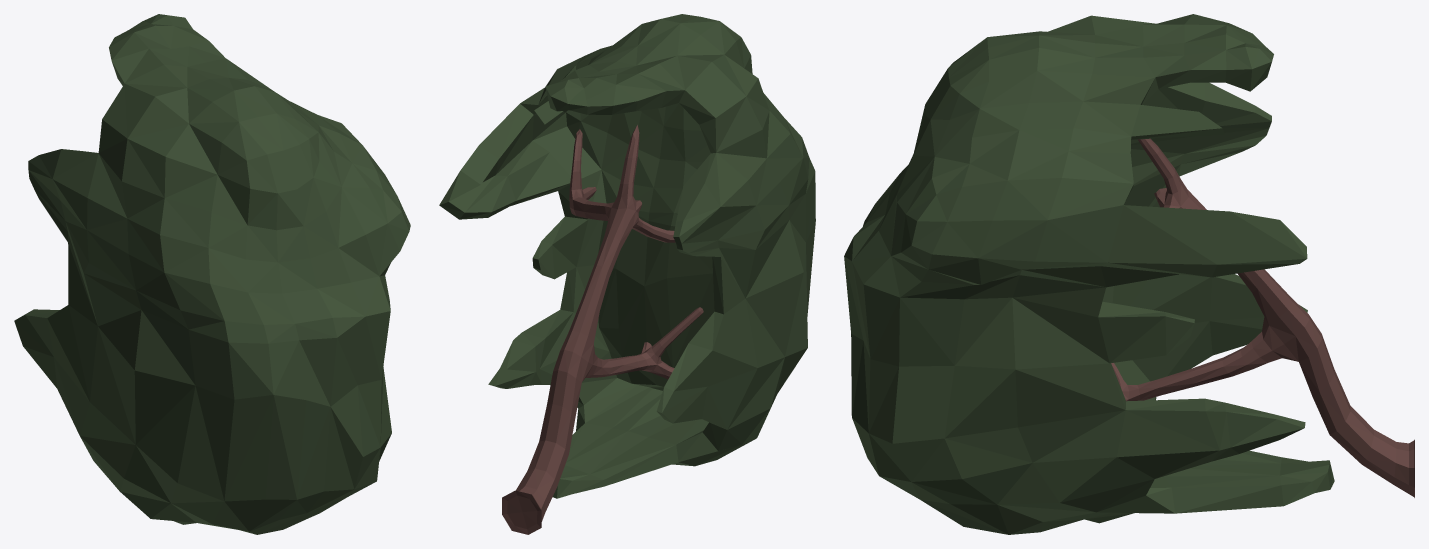
File: tree-willow-2-30-ft.obj
3 views of the same model, side by side, from view 1: azimuth 30°, elevation 25°; view 2: azimuth 150°, elevation 25°; view 3: azimuth 270°, elevation 25° (orthographic). The views are drawn at different scales.
Parts seen in each view (by area): view 1: tree-willow-2-30-ft; view 2: tree-willow-2-30-ft; view 3: tree-willow-2-30-ft.
Part boxes in pixels (<box>): tree-willow-2-30-ft: <box>14,14,410,534</box>; tree-willow-2-30-ft: <box>439,14,815,534</box>; tree-willow-2-30-ft: <box>844,14,1414,534</box>.
Bounding box in the file's own units: 212 × 337 × 360.
